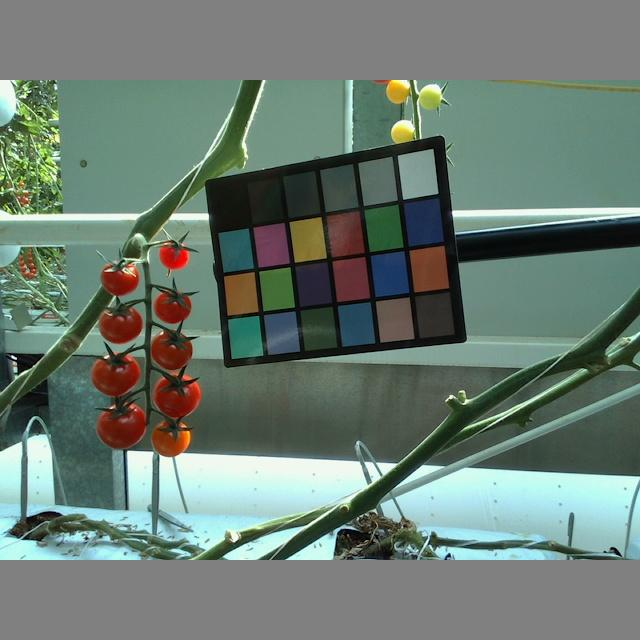pink: (152, 414, 193, 456)
red: (96, 402, 148, 452), (87, 353, 142, 397), (154, 373, 201, 418), (148, 333, 194, 369), (99, 307, 142, 343), (99, 261, 142, 296), (155, 290, 191, 324), (159, 243, 190, 270)
